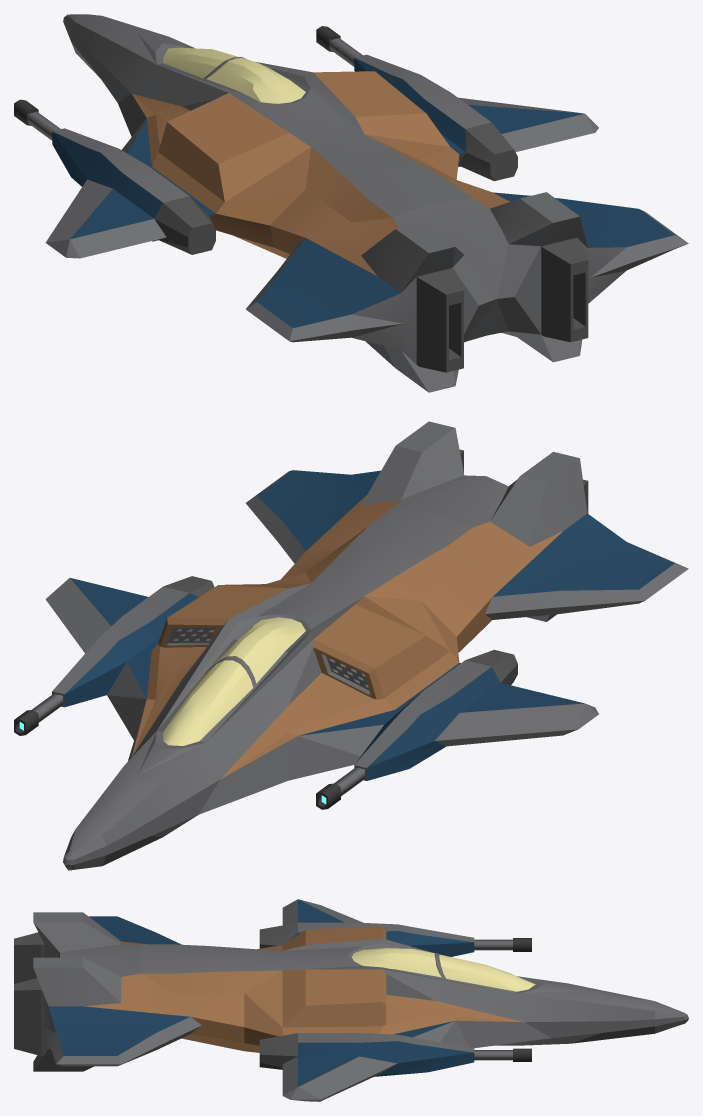
File: AC-Bearclaw-mkII-Ship-V01.glb
3 views of the same model, one above another, from view 1: azimuth 30°, elevation 25°; view 2: azimuth 150°, elevation 25°; view 3: azimuth 270°, elevation 25° (orthographic). The views are drawn at different scales.
Parts seen in each view (by area): view 1: Ship; view 2: Ship; view 3: Ship.
Part boxes in pixels (<box>): Ship: <box>14,14,688,392</box>; Ship: <box>14,421,688,870</box>; Ship: <box>14,899,688,1101</box>.
Size of the model in its own units: 24 by 6 by 35.18.
